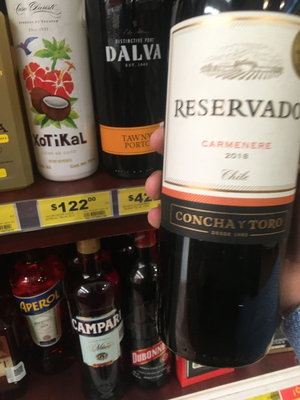reservado carmenere: (161, 2, 300, 359)
